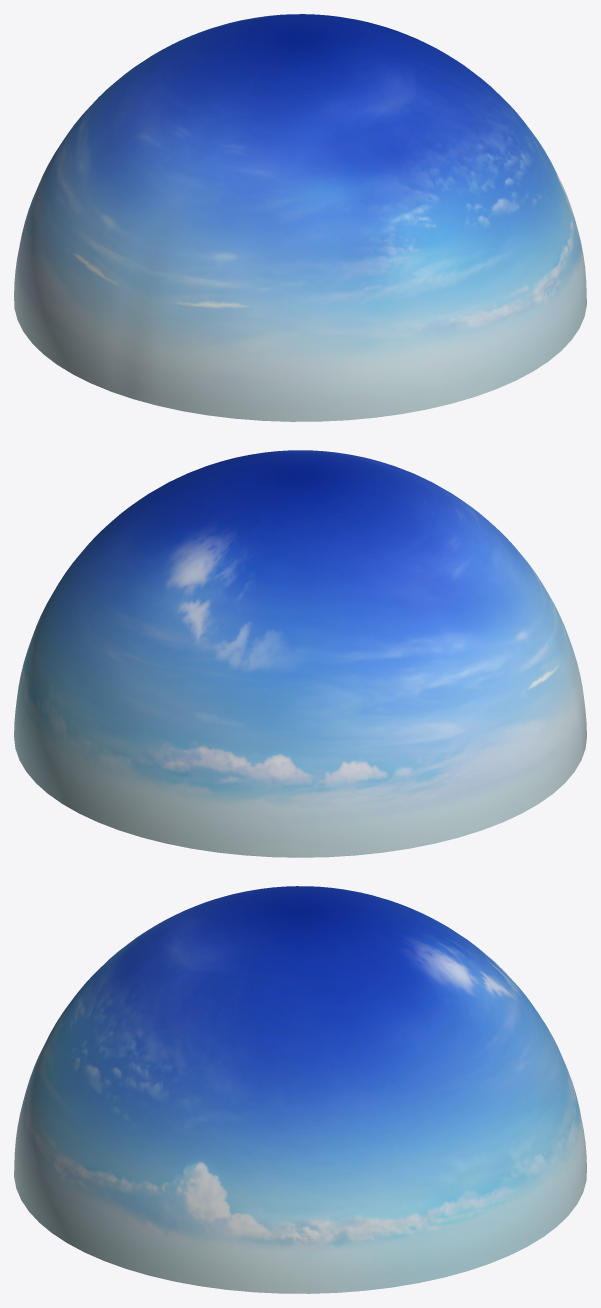
File: Pool_Day.fbx
The picture shows the model from 3 angles, top to bottom: view 1: azimuth 30°, elevation 25°; view 2: azimuth 150°, elevation 25°; view 3: azimuth 270°, elevation 25°; orthographic projection.
Parts seen in each view (by area): view 1: Skybox; view 2: Skybox; view 3: Skybox.
Part boxes in pixels (x1=…): Skybox: x1=14, y1=14, x2=586, y2=421; Skybox: x1=14, y1=450, x2=586, y2=857; Skybox: x1=14, y1=886, x2=586, y2=1293.
Bounding box in the file's own units: 127 × 65.4 × 127.
